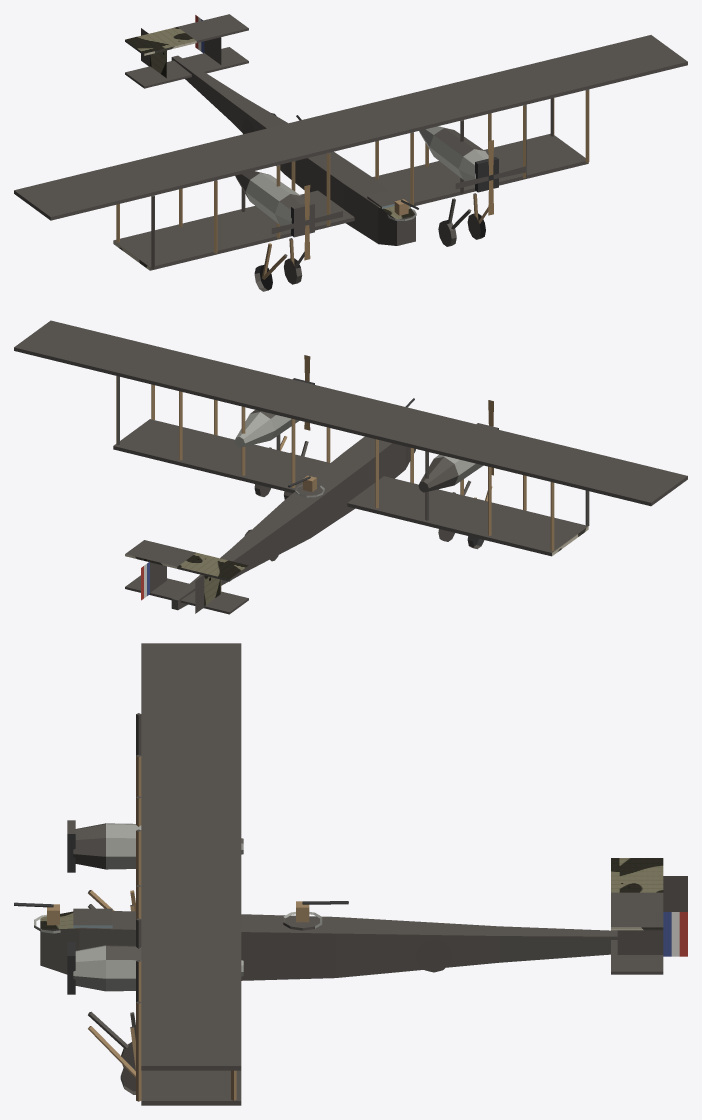
File: wreck.gltf
The picture shows the model from 3 angles, top to bottom: view 1: azimuth 30°, elevation 25°; view 2: azimuth 150°, elevation 25°; view 3: azimuth 270°, elevation 25°; orthographic projection. The views are drawn at different scales.
Visible parts, largest first — view 1: handleypage_wreck, handleypage_wreck.002, handleypage_wreck.001; view 2: handleypage_wreck; view 3: handleypage_wreck.
Boxes of the visible parts, bbox=[...] form: handleypage_wreck: bbox=[14, 14, 687, 291]; handleypage_wreck.002: bbox=[455, 140, 526, 215]; handleypage_wreck.001: bbox=[271, 185, 342, 260]; handleypage_wreck: bbox=[14, 320, 687, 614]; handleypage_wreck: bbox=[14, 643, 687, 1105].
Bounding box in the file's own units: 76.25 × 14.39 × 51.39.
11 materials, 2 textured.
